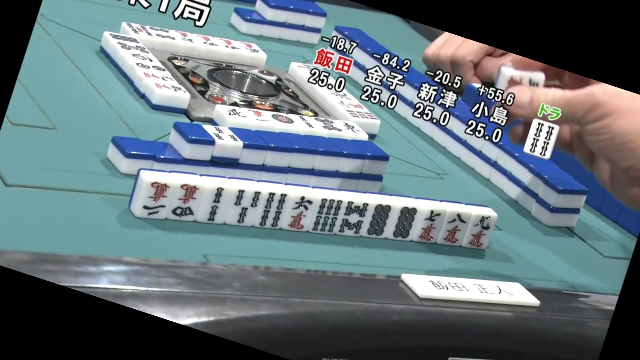Tehai: (125, 164, 504, 260)
